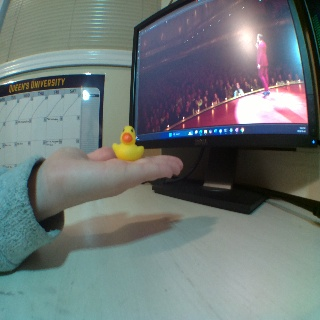duck_regular: (113, 125, 143, 161)
